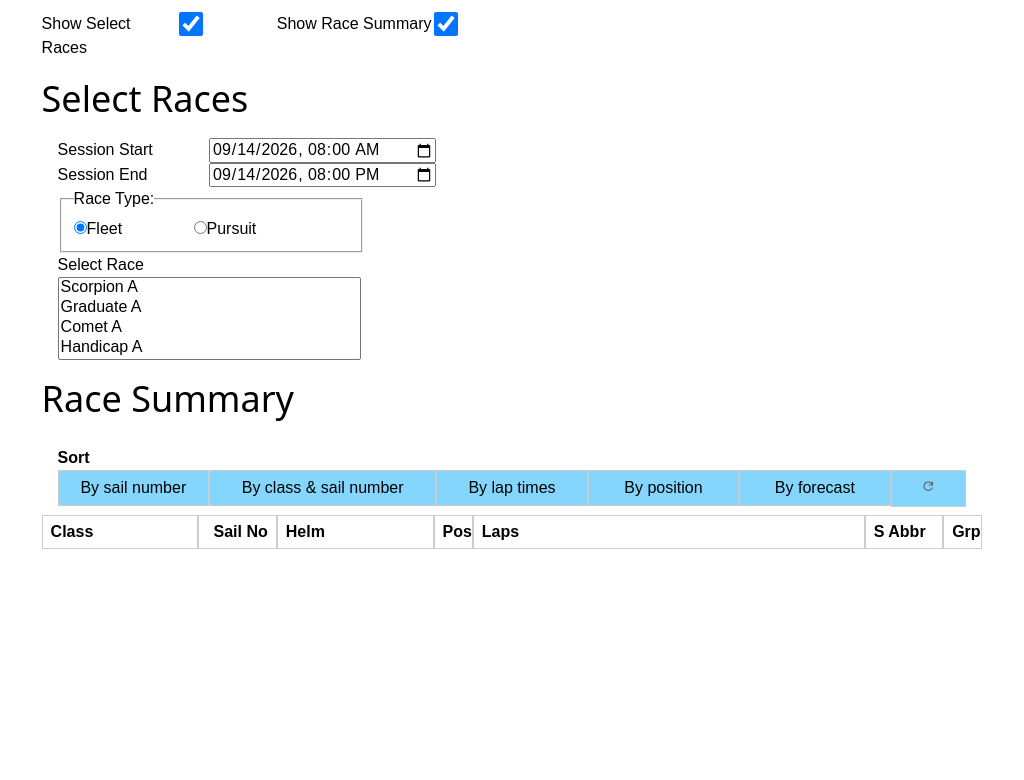
Test: when a race is selected › shows the duration of the selected race
Select "Scorpion A" in the dropdown labelled "Select Race": (209, 318) [58,277,360,360]
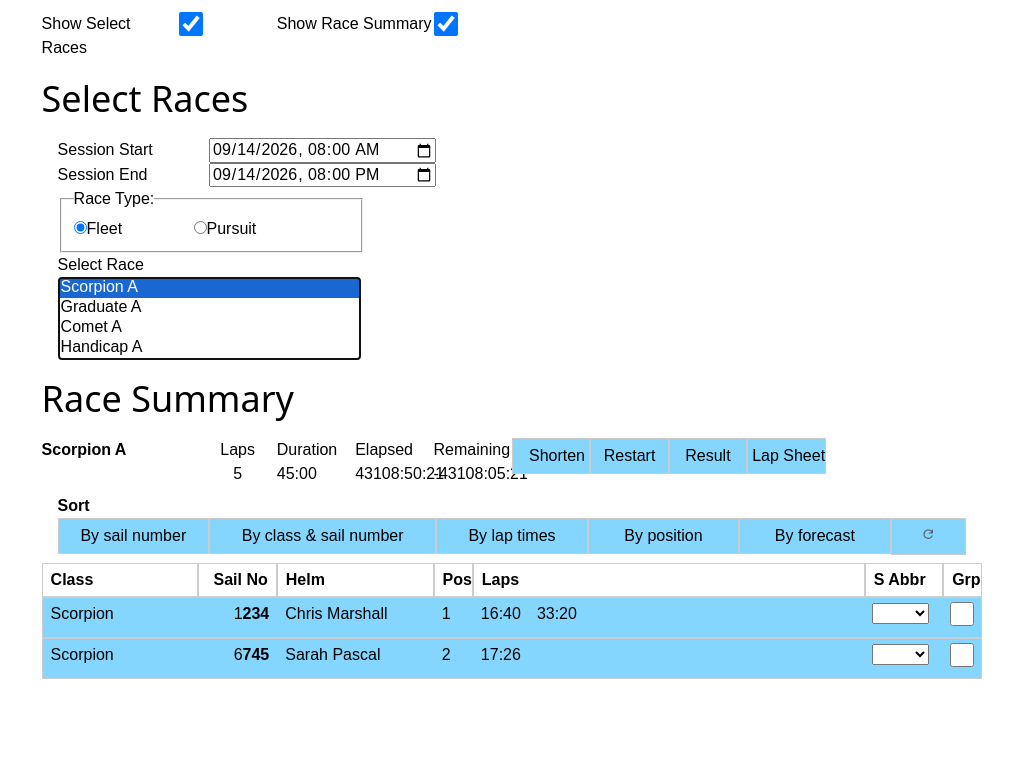
Expected: the text named "duration" holds "45:00", [277,465,317,482]
